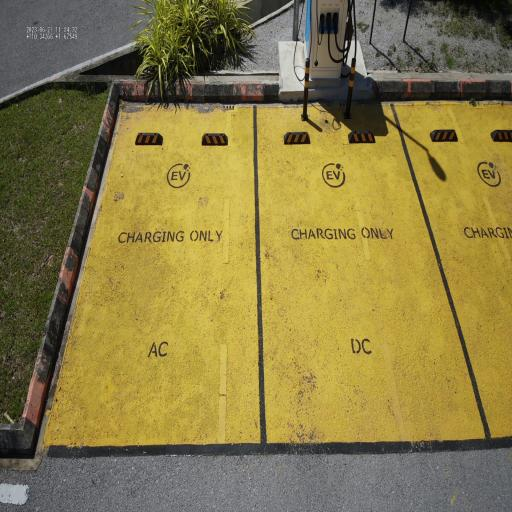Empty: (30, 92, 270, 476), (248, 92, 494, 461)
